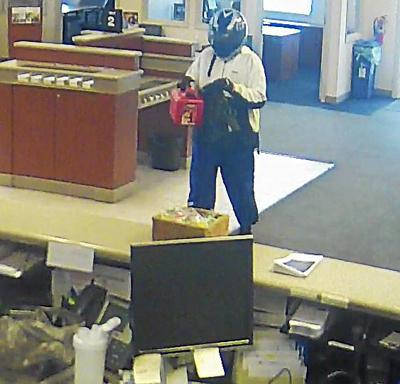helmet: (197, 4, 254, 61)
